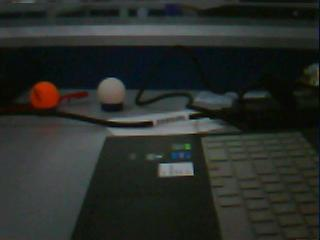oball: (30, 80, 58, 109)
